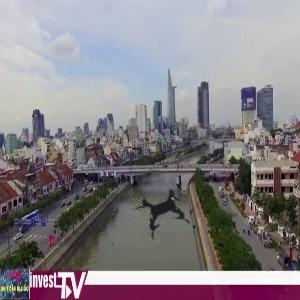drone: (118, 166, 213, 261)
